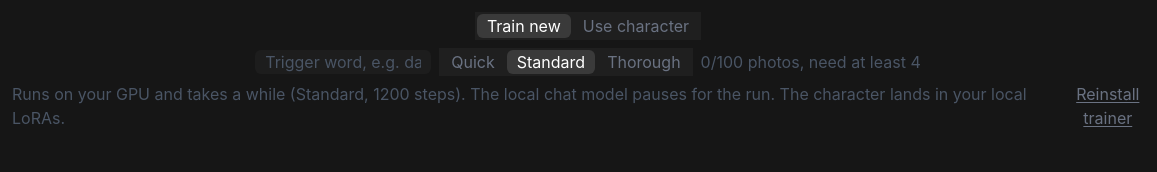
Test: die gewaehlte Stufe steht im Hinweistext › THE FIX: der Text nennt die Stufe UND die wirksame Zahl
Expected: the text "Runs on your GPU and takes a while" shows "(Standard, 1200 steps)", top-left (296, 84), bottom-right (455, 104)
Click the radio button labelled "Quick": coordinates (473, 62) top-left (441, 50), bottom-right (505, 74)
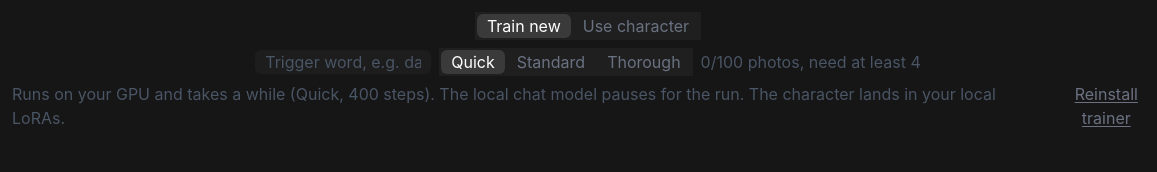
Expected: the text "Runs on your GPU and takes a while" shows "(Quick, 400 steps)", top-left (296, 84), bottom-right (424, 104)
Click the radio button labelled "Thorough": coordinates (644, 62) top-left (597, 50), bottom-right (691, 74)
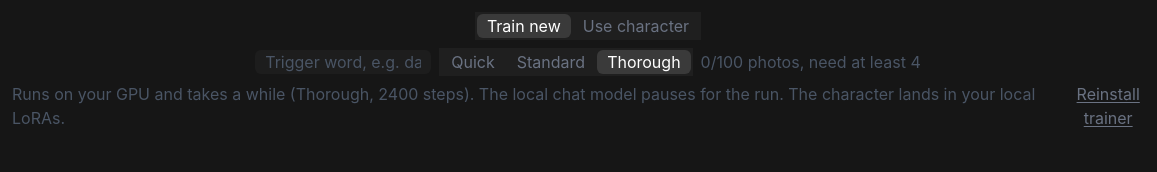
Expected: the text "Runs on your GPU and takes a while" shows "(Thorough, 2400 steps)", top-left (296, 84), bottom-right (464, 104)
